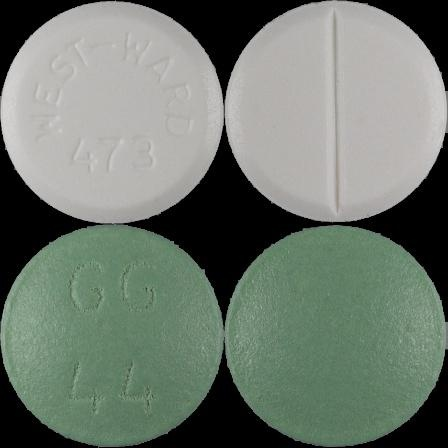64725-1473: (0, 0, 224, 224)
